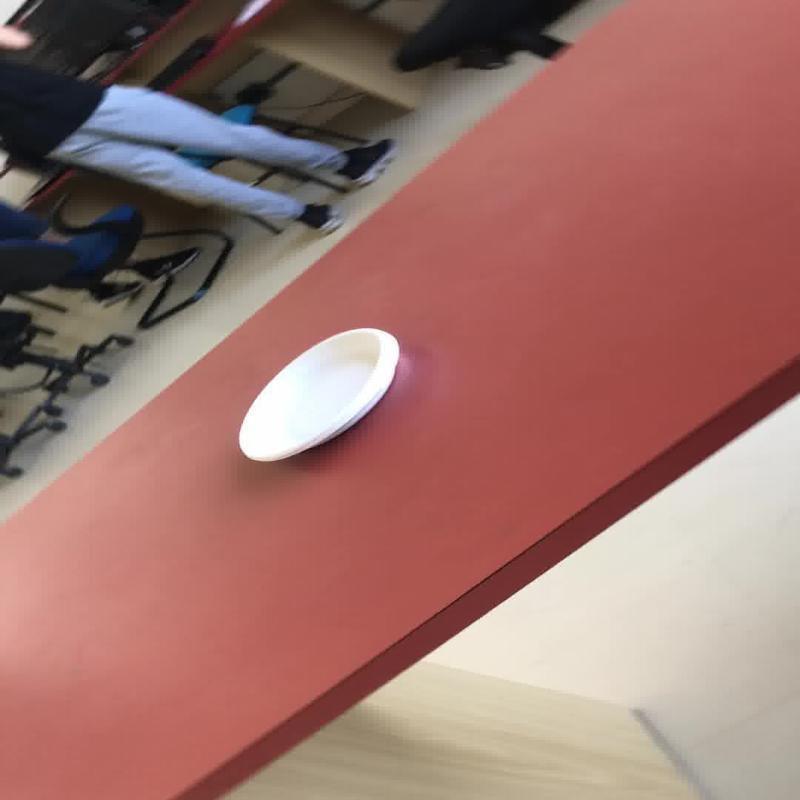plate: (237, 326, 400, 462)
